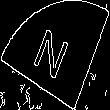N_SW: (33, 23, 77, 87)
